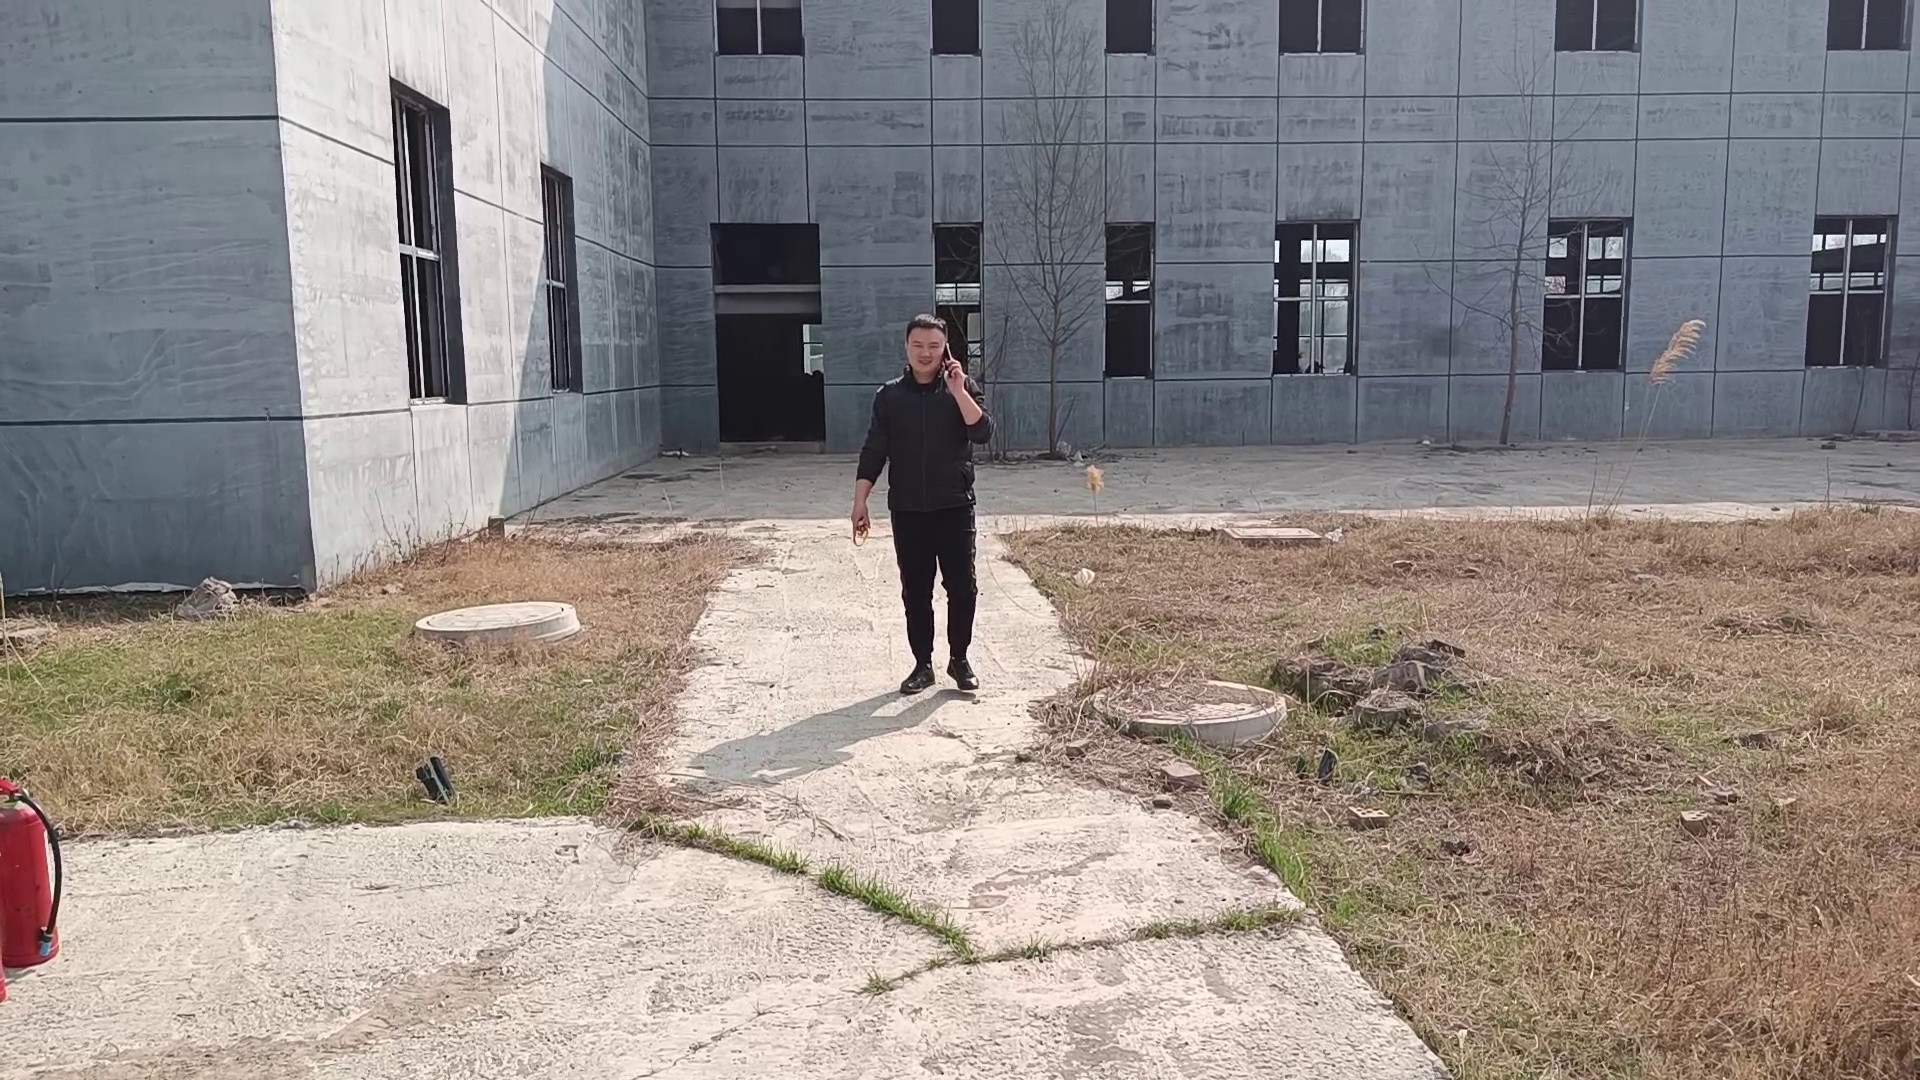phone: (901, 305, 963, 386)
